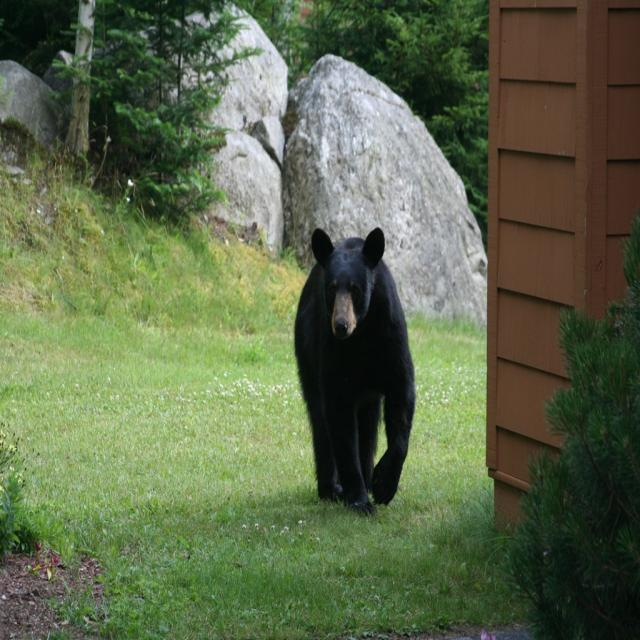Bear: (293, 226, 417, 518)
